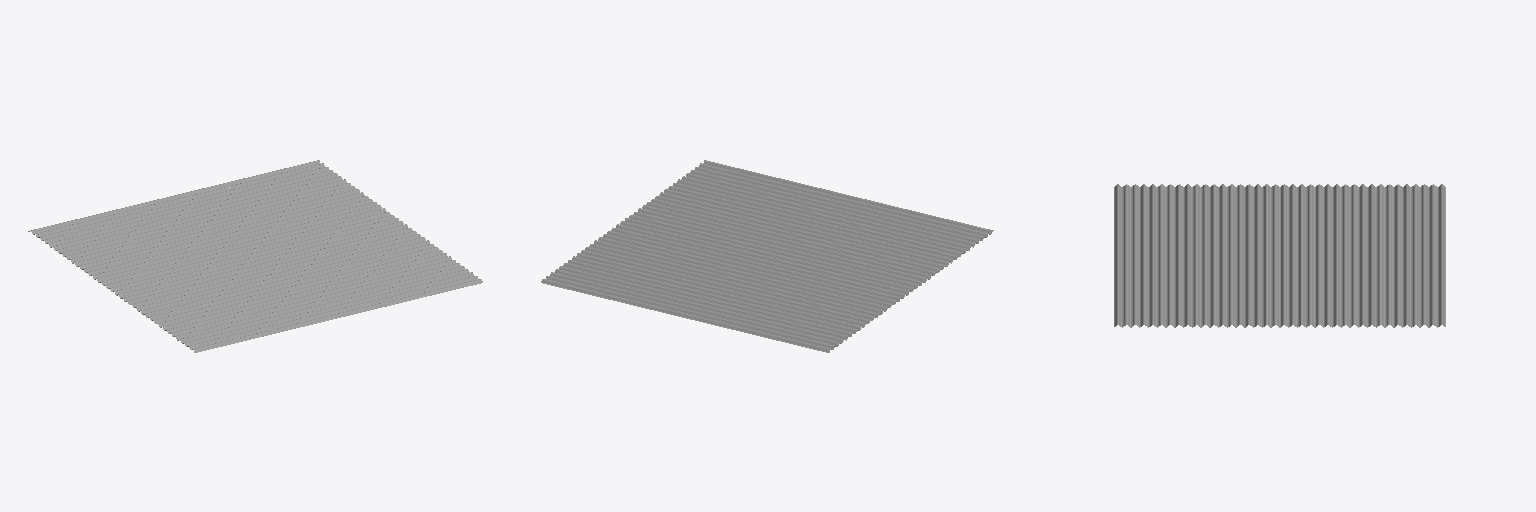
Rendered from warehouseRoof.obj.
3 views of the same model, side by side, from view 1: azimuth 30°, elevation 25°; view 2: azimuth 150°, elevation 25°; view 3: azimuth 270°, elevation 25° (orthographic).
Visible parts, largest first — view 1: roof_Plane.006_roof_Plane.007; view 2: roof_Plane.006_roof_Plane.007; view 3: roof_Plane.006_roof_Plane.007.
Boxes of the visible parts, box(x1,y1,x2,y2) form: roof_Plane.006_roof_Plane.007: box(28, 160, 482, 352); roof_Plane.006_roof_Plane.007: box(541, 160, 993, 352); roof_Plane.006_roof_Plane.007: box(1114, 184, 1445, 327).
Bounding box in the file's own units: 46.24 × 0.3692 × 46.18.